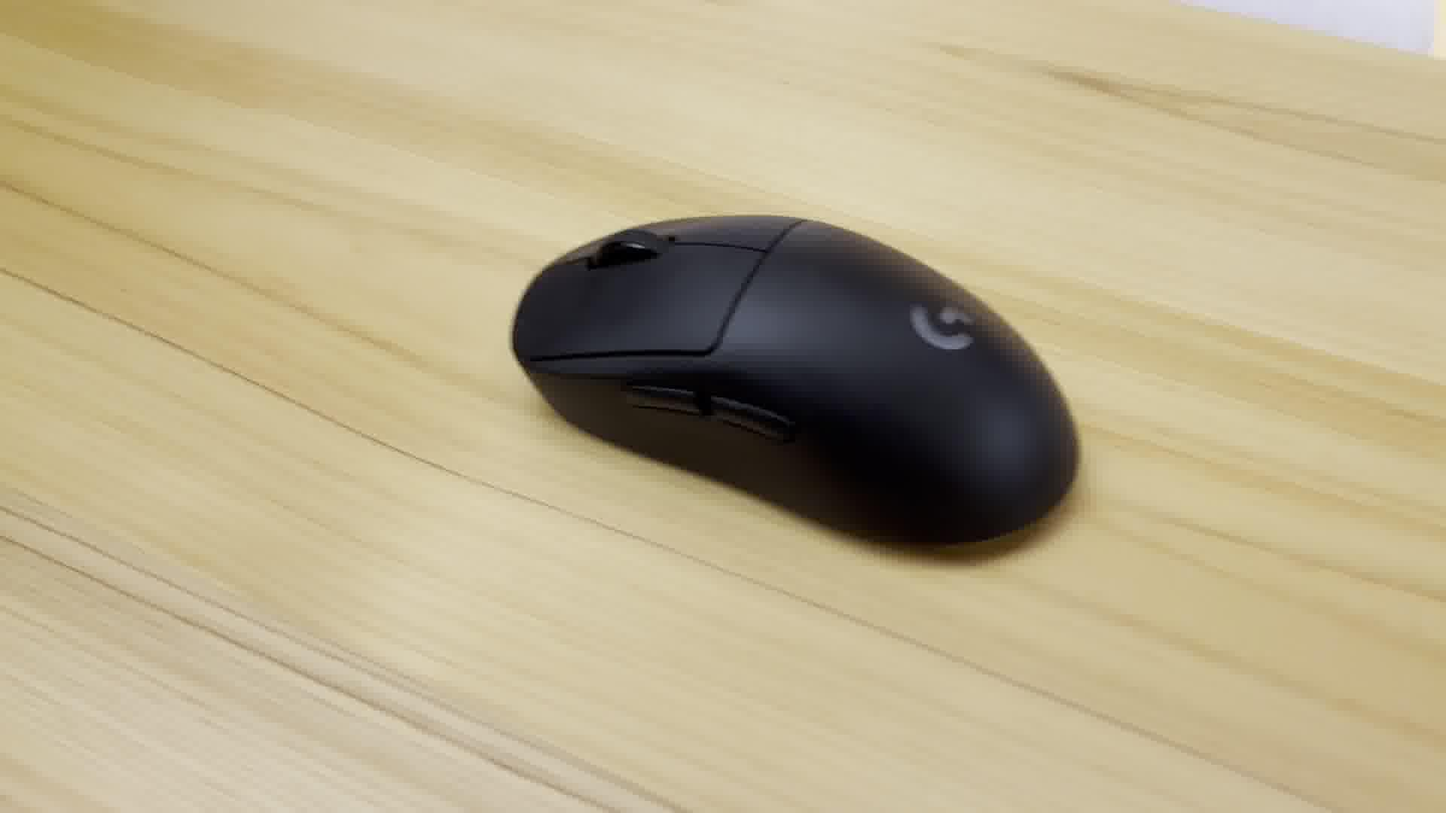mouse: (502, 203, 1093, 562)
